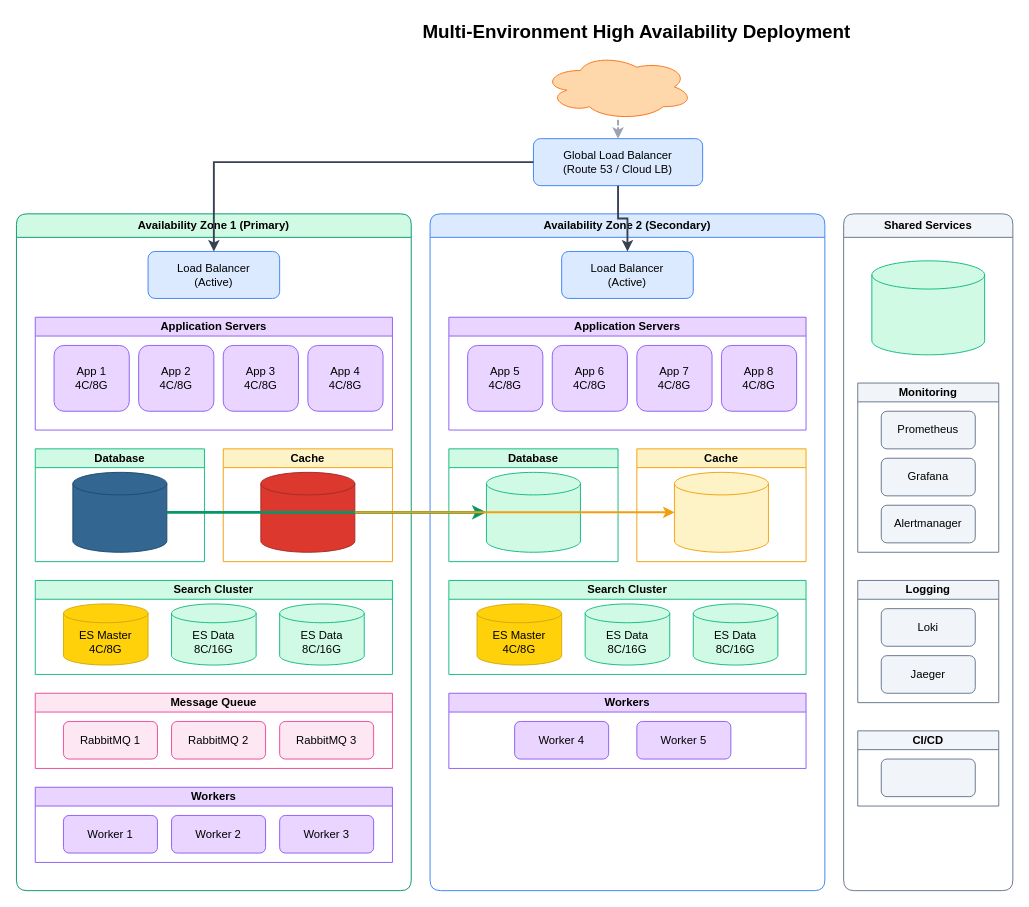
The diagram is 1029 pixels wide and 907 high, and some of its shapes have lost their labels. The shapes that lost their labels are listed below. From the top down, each one's centre as x and y in pixels, then its label:
the point at 617,86: Internet / CDN
the point at 928,307: Object Storage (S3/MinIO) Multi-Region
the point at 119,511: PostgreSQL Primary 8C/32G/500G
the point at 307,511: Redis Primary 4C/16G
the point at 533,511: PostgreSQL Replica 8C/32G/500G
the point at 721,511: Redis Replica 4C/16G
the point at 927,777: GitHub Actions
